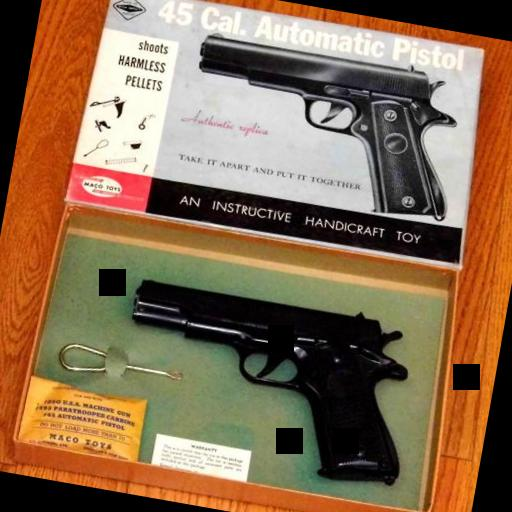Handgun: (100, 262, 430, 496)
